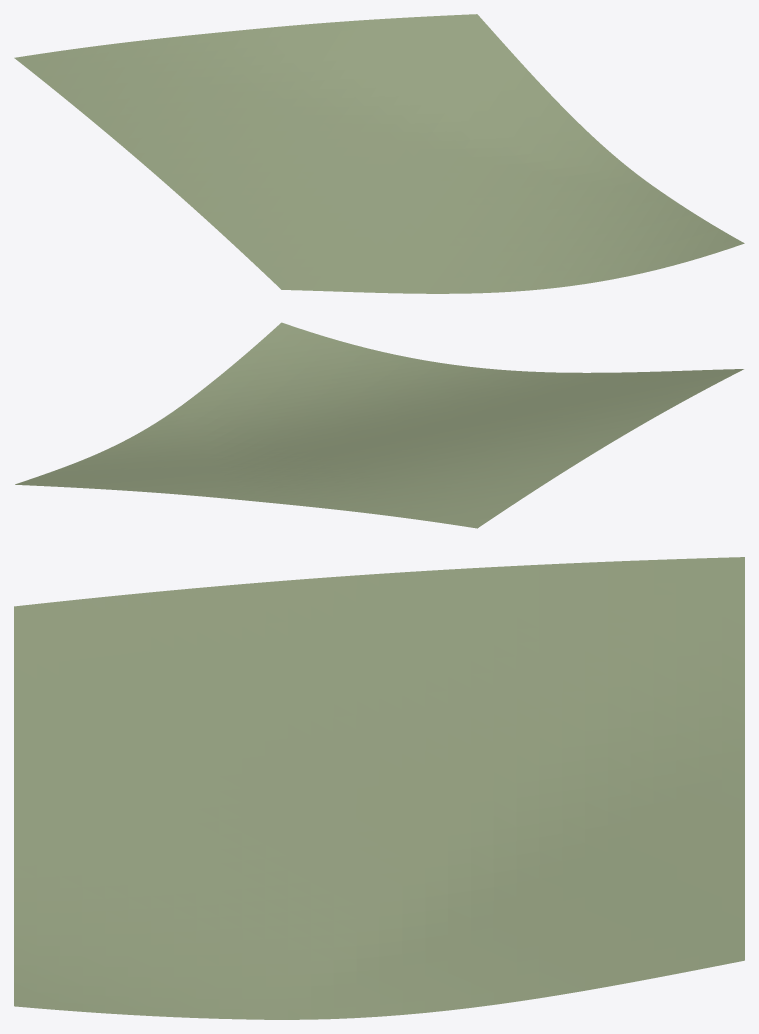
Rendered from expanse-8-22.glb.
3 renders of one model, top to bottom at view 1: azimuth 30°, elevation 25°; view 2: azimuth 150°, elevation 25°; view 3: azimuth 270°, elevation 25°, orthographic. The views are drawn at different scales.
Parts seen in each view (by area): view 1: expanse-8-22; view 2: expanse-8-22; view 3: expanse-8-22.
Part boxes in pixels (x1=…): expanse-8-22: x1=14, y1=14, x2=744, y2=293; expanse-8-22: x1=15, y1=322, x2=743, y2=528; expanse-8-22: x1=14, y1=557, x2=744, y2=1019.
Size of the model in its own units: 256 by 59.5 by 256.
